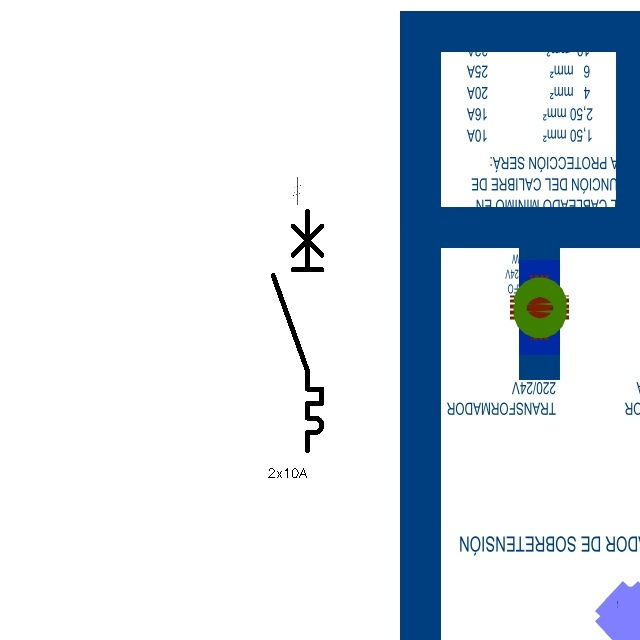interruptor_termomagnetico: (267, 205, 328, 457)
